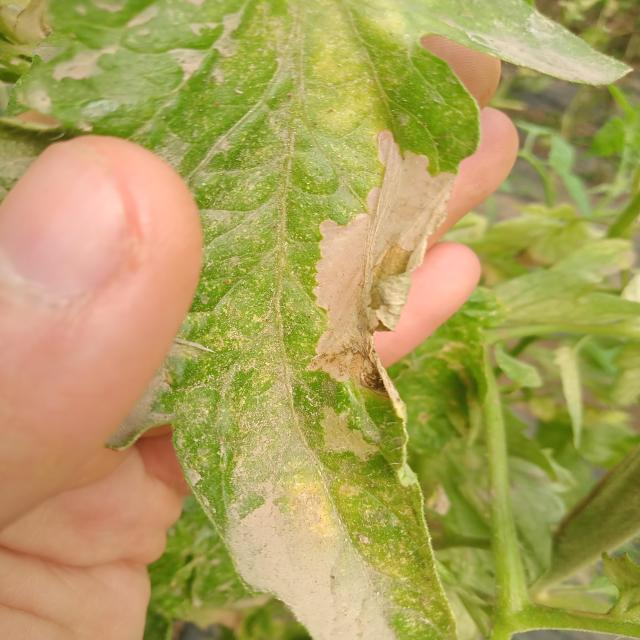Tuta absoluta: (267, 121, 471, 396), (305, 400, 381, 475)
